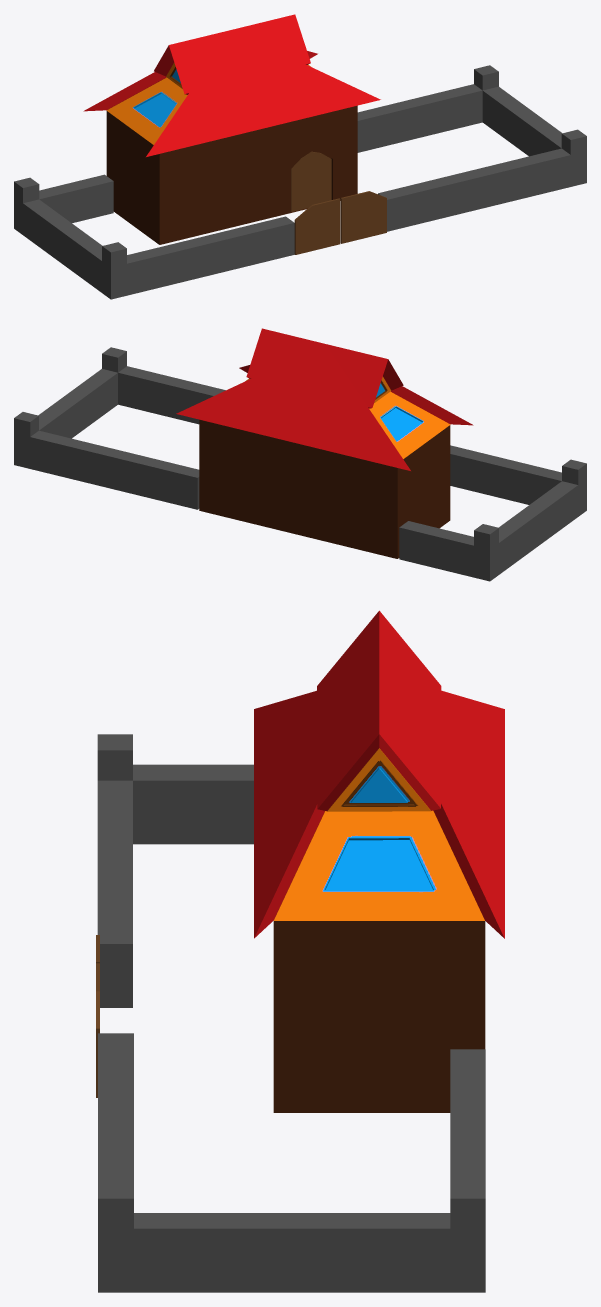
The model's file is BarracksNew.fbx.
The picture shows the model from 3 angles, top to bottom: view 1: azimuth 30°, elevation 25°; view 2: azimuth 150°, elevation 25°; view 3: azimuth 270°, elevation 25°; orthographic projection. The views are drawn at different scales.
Visible parts, largest first — view 1: Wall, BuildingPrefab, Roof, FoundationPrefab, Gate, Attic, Door; view 2: BuildingPrefab, FoundationPrefab, Roof, Wall, Attic; view 3: Roof, BuildingPrefab, Wall, FoundationPrefab, Attic.
Part boxes in pixels (bbox=[...]): Wall: bbox=[14, 65, 586, 299]; BuildingPrefab: bbox=[106, 105, 357, 244]; Roof: bbox=[83, 14, 380, 156]; FoundationPrefab: bbox=[14, 65, 586, 263]; Gate: bbox=[294, 191, 386, 254]; Attic: bbox=[106, 63, 310, 144]; Door: bbox=[291, 151, 331, 211]; BuildingPrefab: bbox=[199, 419, 450, 558]; FoundationPrefab: bbox=[14, 347, 586, 581]; Roof: bbox=[176, 328, 473, 470]; Wall: bbox=[14, 347, 586, 581]; Attic: bbox=[246, 376, 450, 458]; Roof: bbox=[254, 610, 504, 938]; BuildingPrefab: bbox=[273, 921, 485, 1112]; Wall: bbox=[97, 734, 485, 1292]; FoundationPrefab: bbox=[97, 734, 485, 1228]; Attic: bbox=[273, 748, 484, 920].
Bounding box in the file's own units: 3118 × 1076 × 1159.
